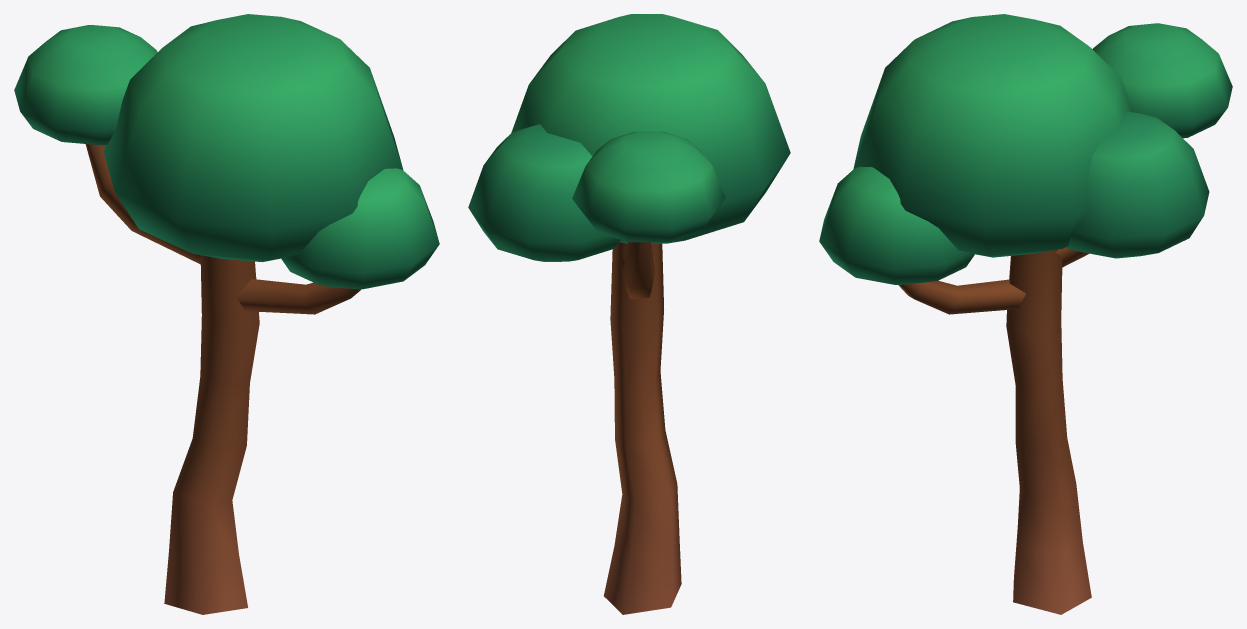
The model's file is Pohon_Kecil.fbx.
3 views of the same model, side by side, from view 1: azimuth 30°, elevation 25°; view 2: azimuth 150°, elevation 25°; view 3: azimuth 270°, elevation 25° (orthographic). The views are drawn at different scales.
Visible parts, largest first — view 1: tree.003; view 2: tree.003; view 3: tree.003.
Boxes of the visible parts, x1,y1,x2,y2 form: tree.003: (14,14,439,614); tree.003: (468,14,790,614); tree.003: (819,14,1232,614).
Bounding box in the file's own units: 234 × 457 × 300.
